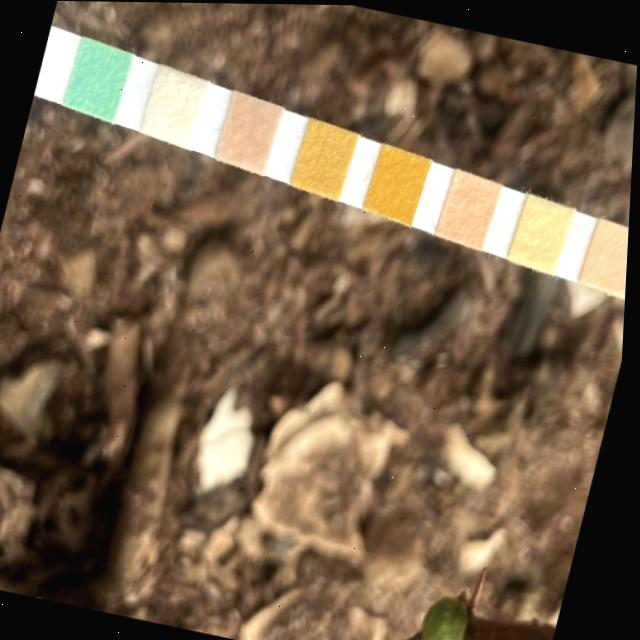Bilirubin: (144, 72, 210, 139)
Blood: (367, 148, 427, 217)
Glucose: (65, 42, 129, 115)
Ketone: (217, 99, 280, 169)
Protein: (512, 199, 572, 269)
SpGravity: (291, 123, 357, 195)
Urobilinogen: (586, 223, 631, 289)
pH: (440, 174, 498, 244)
